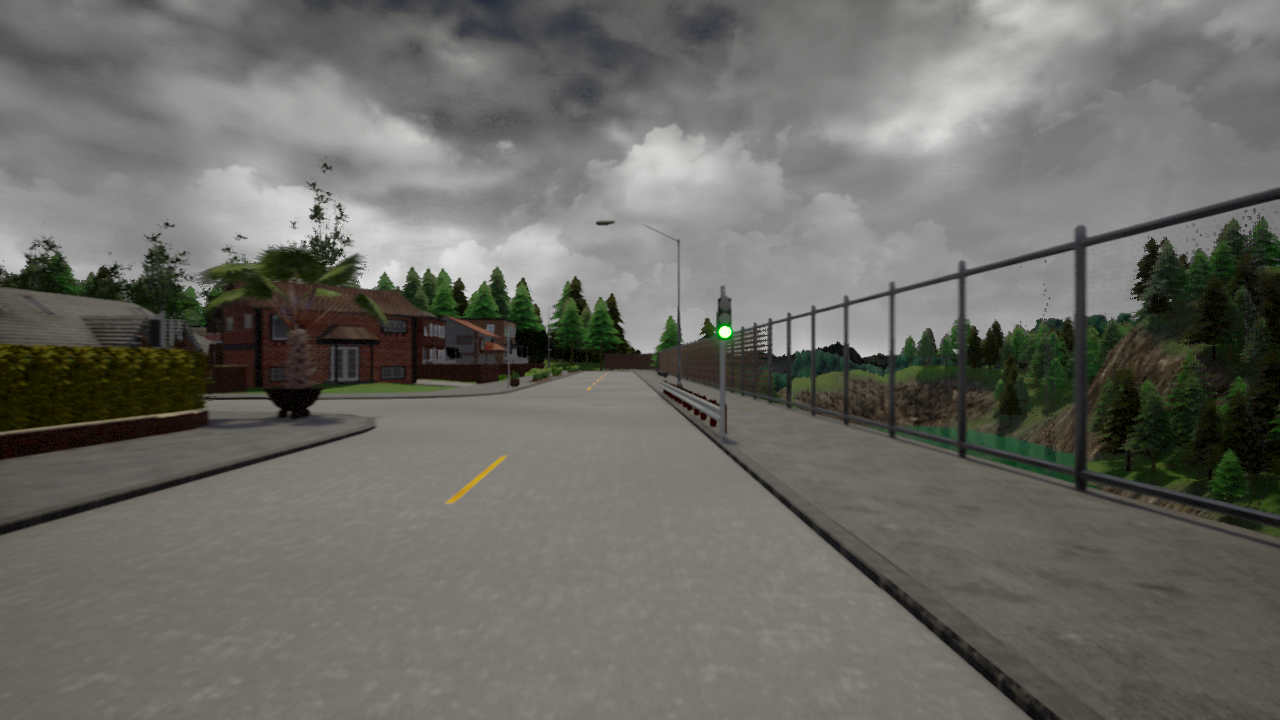green: (717, 295, 734, 337)
